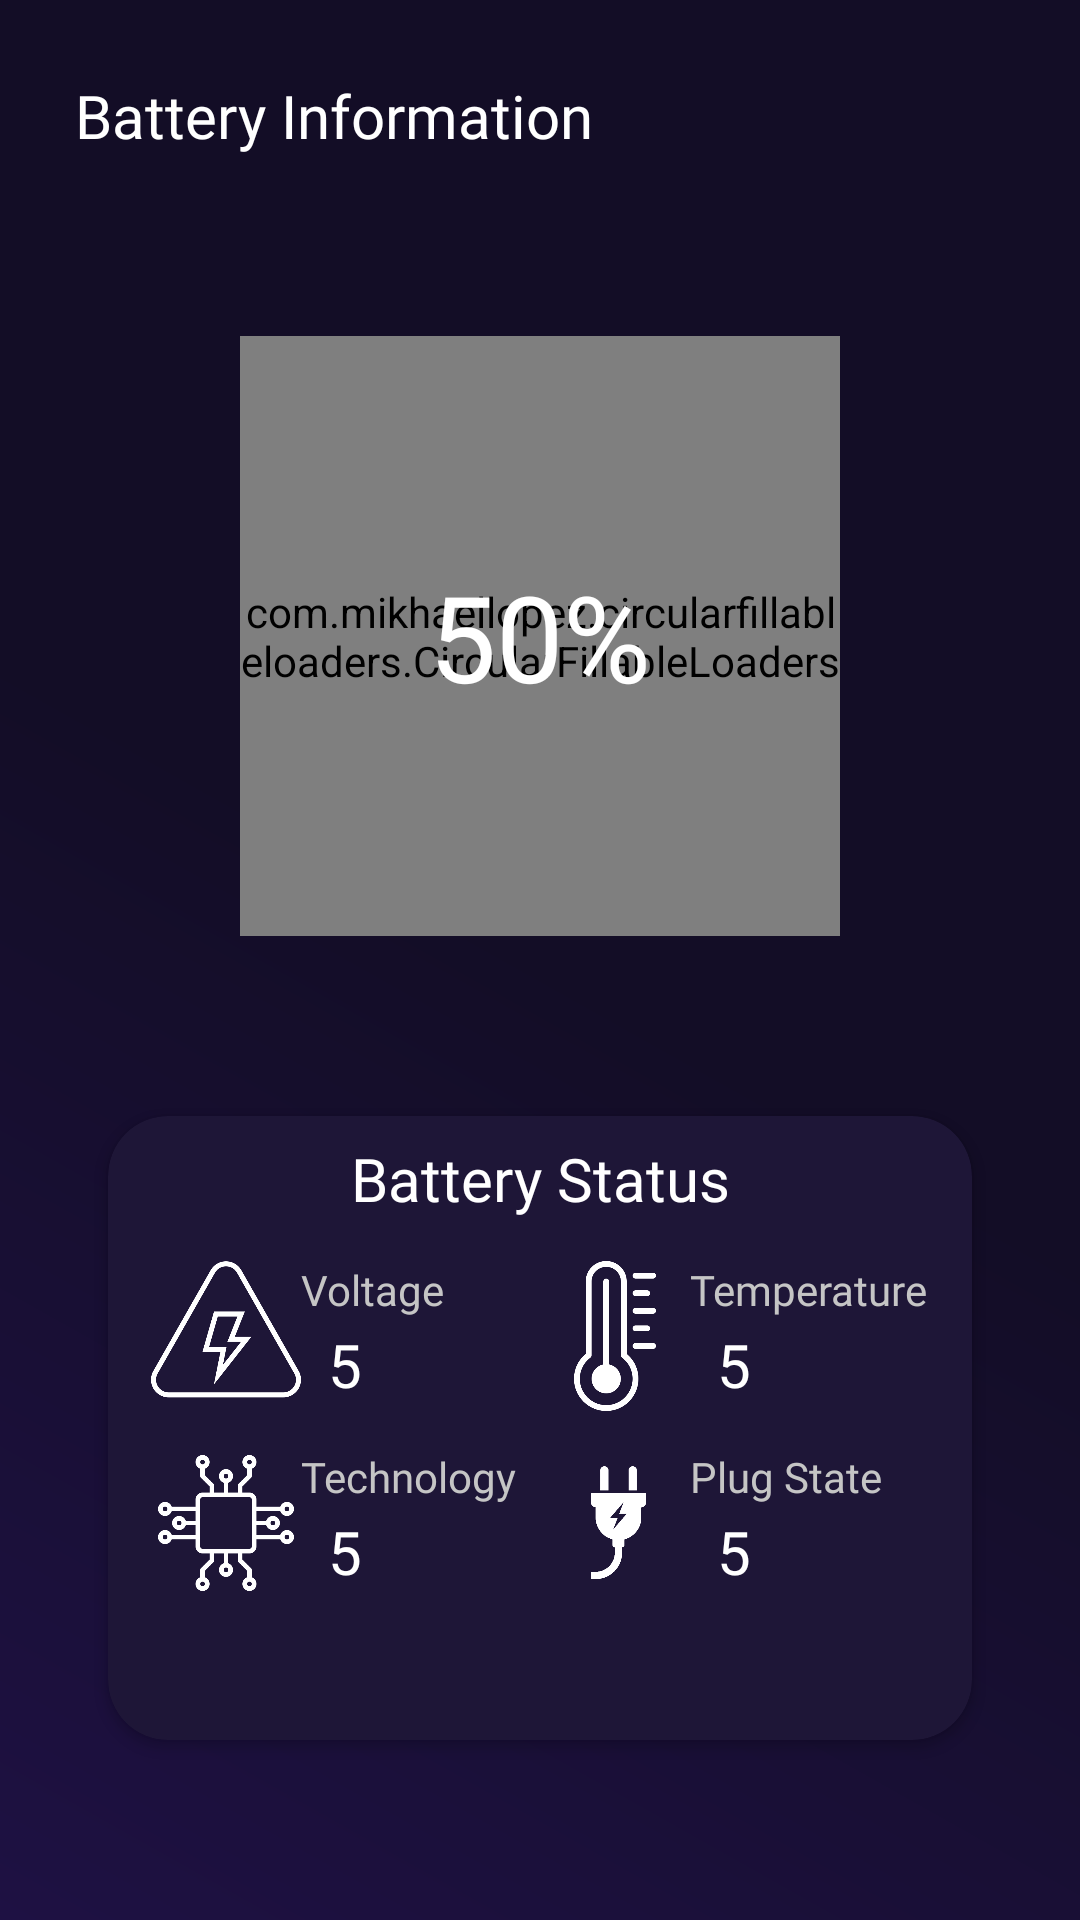

Named icons in this screenshot (1080px×1920px) and their centers, point (x, y):
bolt: point (226, 1329)
thermometer: point (615, 1336)
